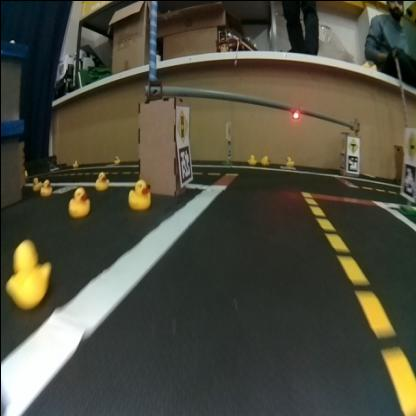Duckie: (6, 238, 49, 308), (127, 180, 149, 208), (68, 186, 88, 214), (94, 170, 108, 189), (40, 178, 50, 194), (31, 175, 39, 189), (285, 155, 292, 165), (247, 154, 255, 162), (260, 154, 266, 162), (112, 154, 118, 162), (70, 158, 76, 166)
Intersection sign: (403, 130, 414, 160), (346, 136, 358, 152)
QR code: (176, 144, 191, 183), (400, 163, 414, 195), (347, 154, 356, 172), (338, 152, 344, 170)
Signal sign: (175, 104, 187, 140)
Traffic light: (290, 107, 298, 118)
